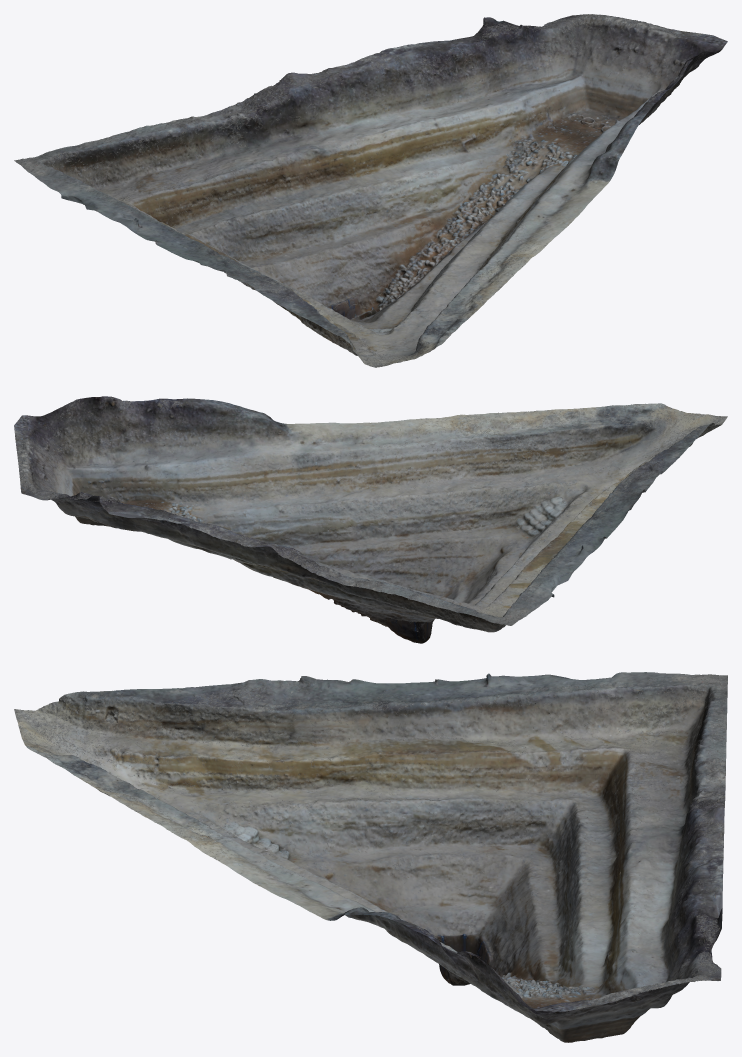
3 views of the same model, one above another, from view 1: azimuth 30°, elevation 25°; view 2: azimuth 150°, elevation 25°; view 3: azimuth 270°, elevation 25° (orthographic). The views are drawn at different scales.
Parts seen in each view (by area): view 1: kr25-2_low; view 2: kr25-2_low; view 3: kr25-2_low.
Part boxes in pixels (left/top/right/bottom): kr25-2_low: left=14, top=14, right=727, bottom=367; kr25-2_low: left=14, top=396, right=727, bottom=643; kr25-2_low: left=14, top=672, right=727, bottom=1042.
Size of the model in its own units: 18.15 by 5.31 by 14.99.
Materials: 1 (1 with a texture image).
